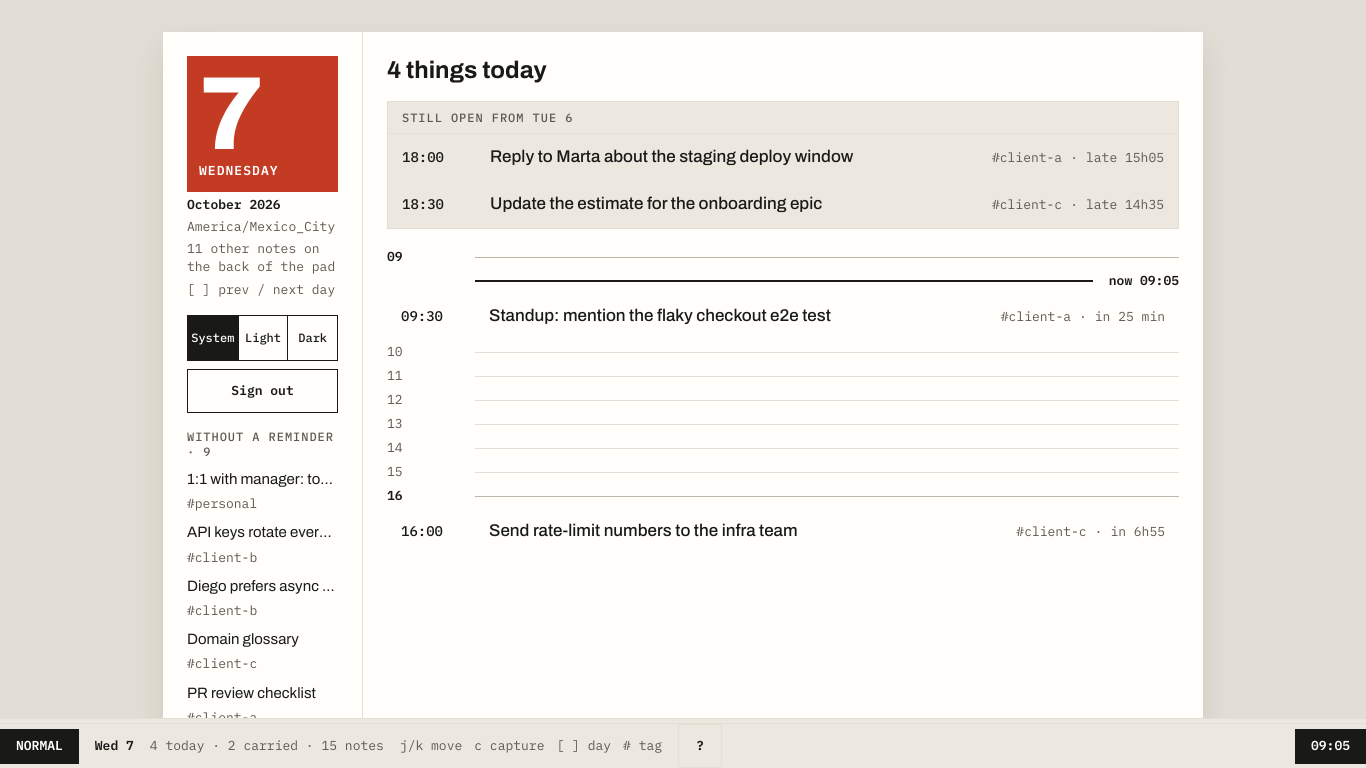
Test: capture from the Today page › a capture without a time is a plain note: no day row, it joins "Without a reminder" (C14)
The width and height of the screenshot is (1366, 768).
Expected: the heading "4 things today" is shown, [387,57,547,83]
Type keys "c"
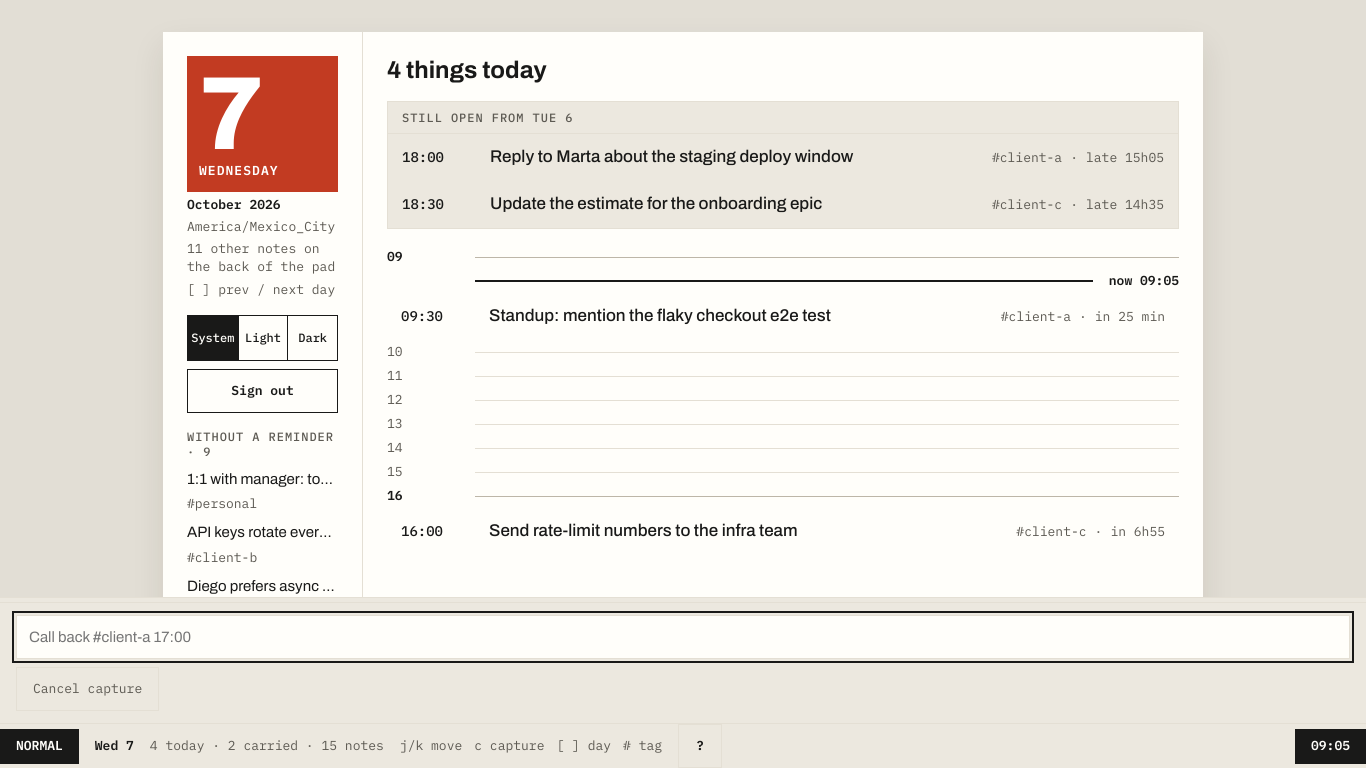
Expected: the footer shows "15 notes", [150,737,384,754]
Type "Call back" into the field named "Capture a note" at (683, 637), box [16,615,1350,659]
Then press Enter
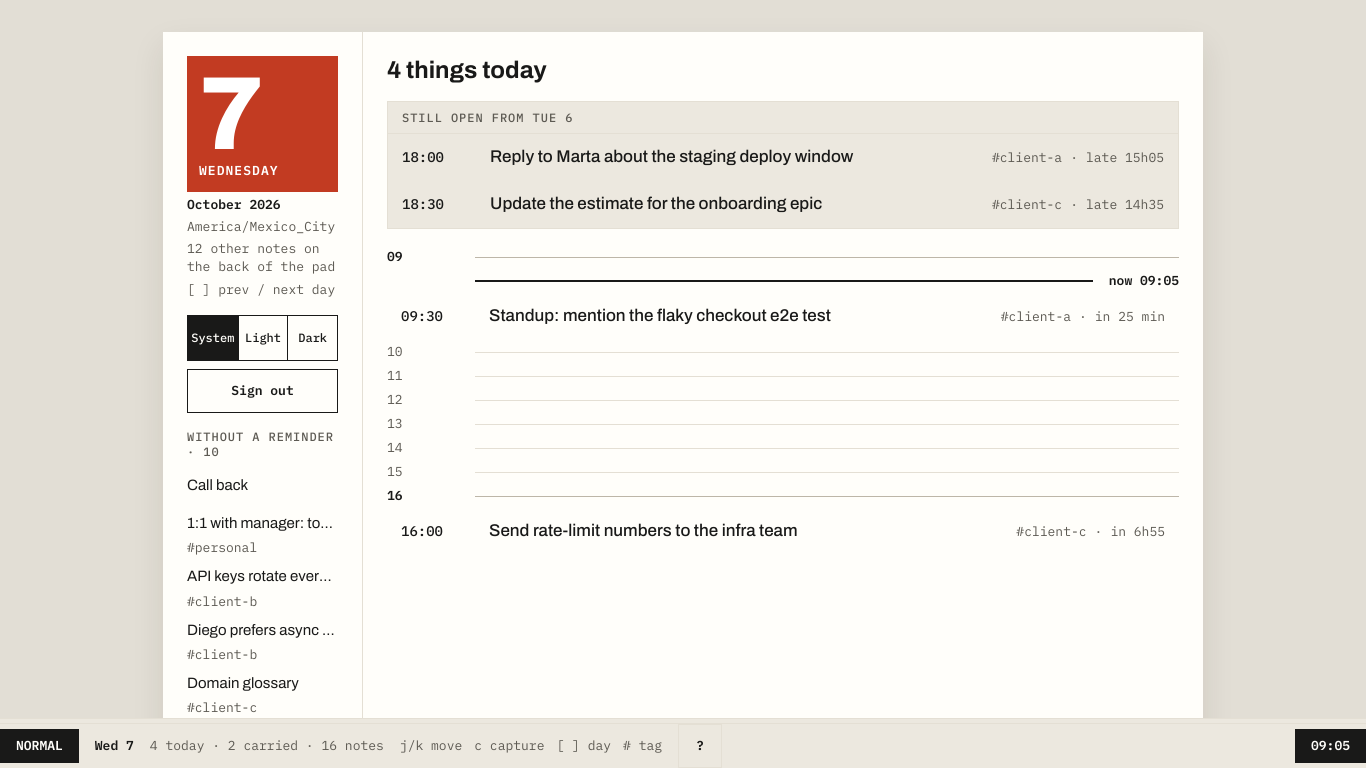
Expected: the footer shows "16 notes", [150,737,384,754]
